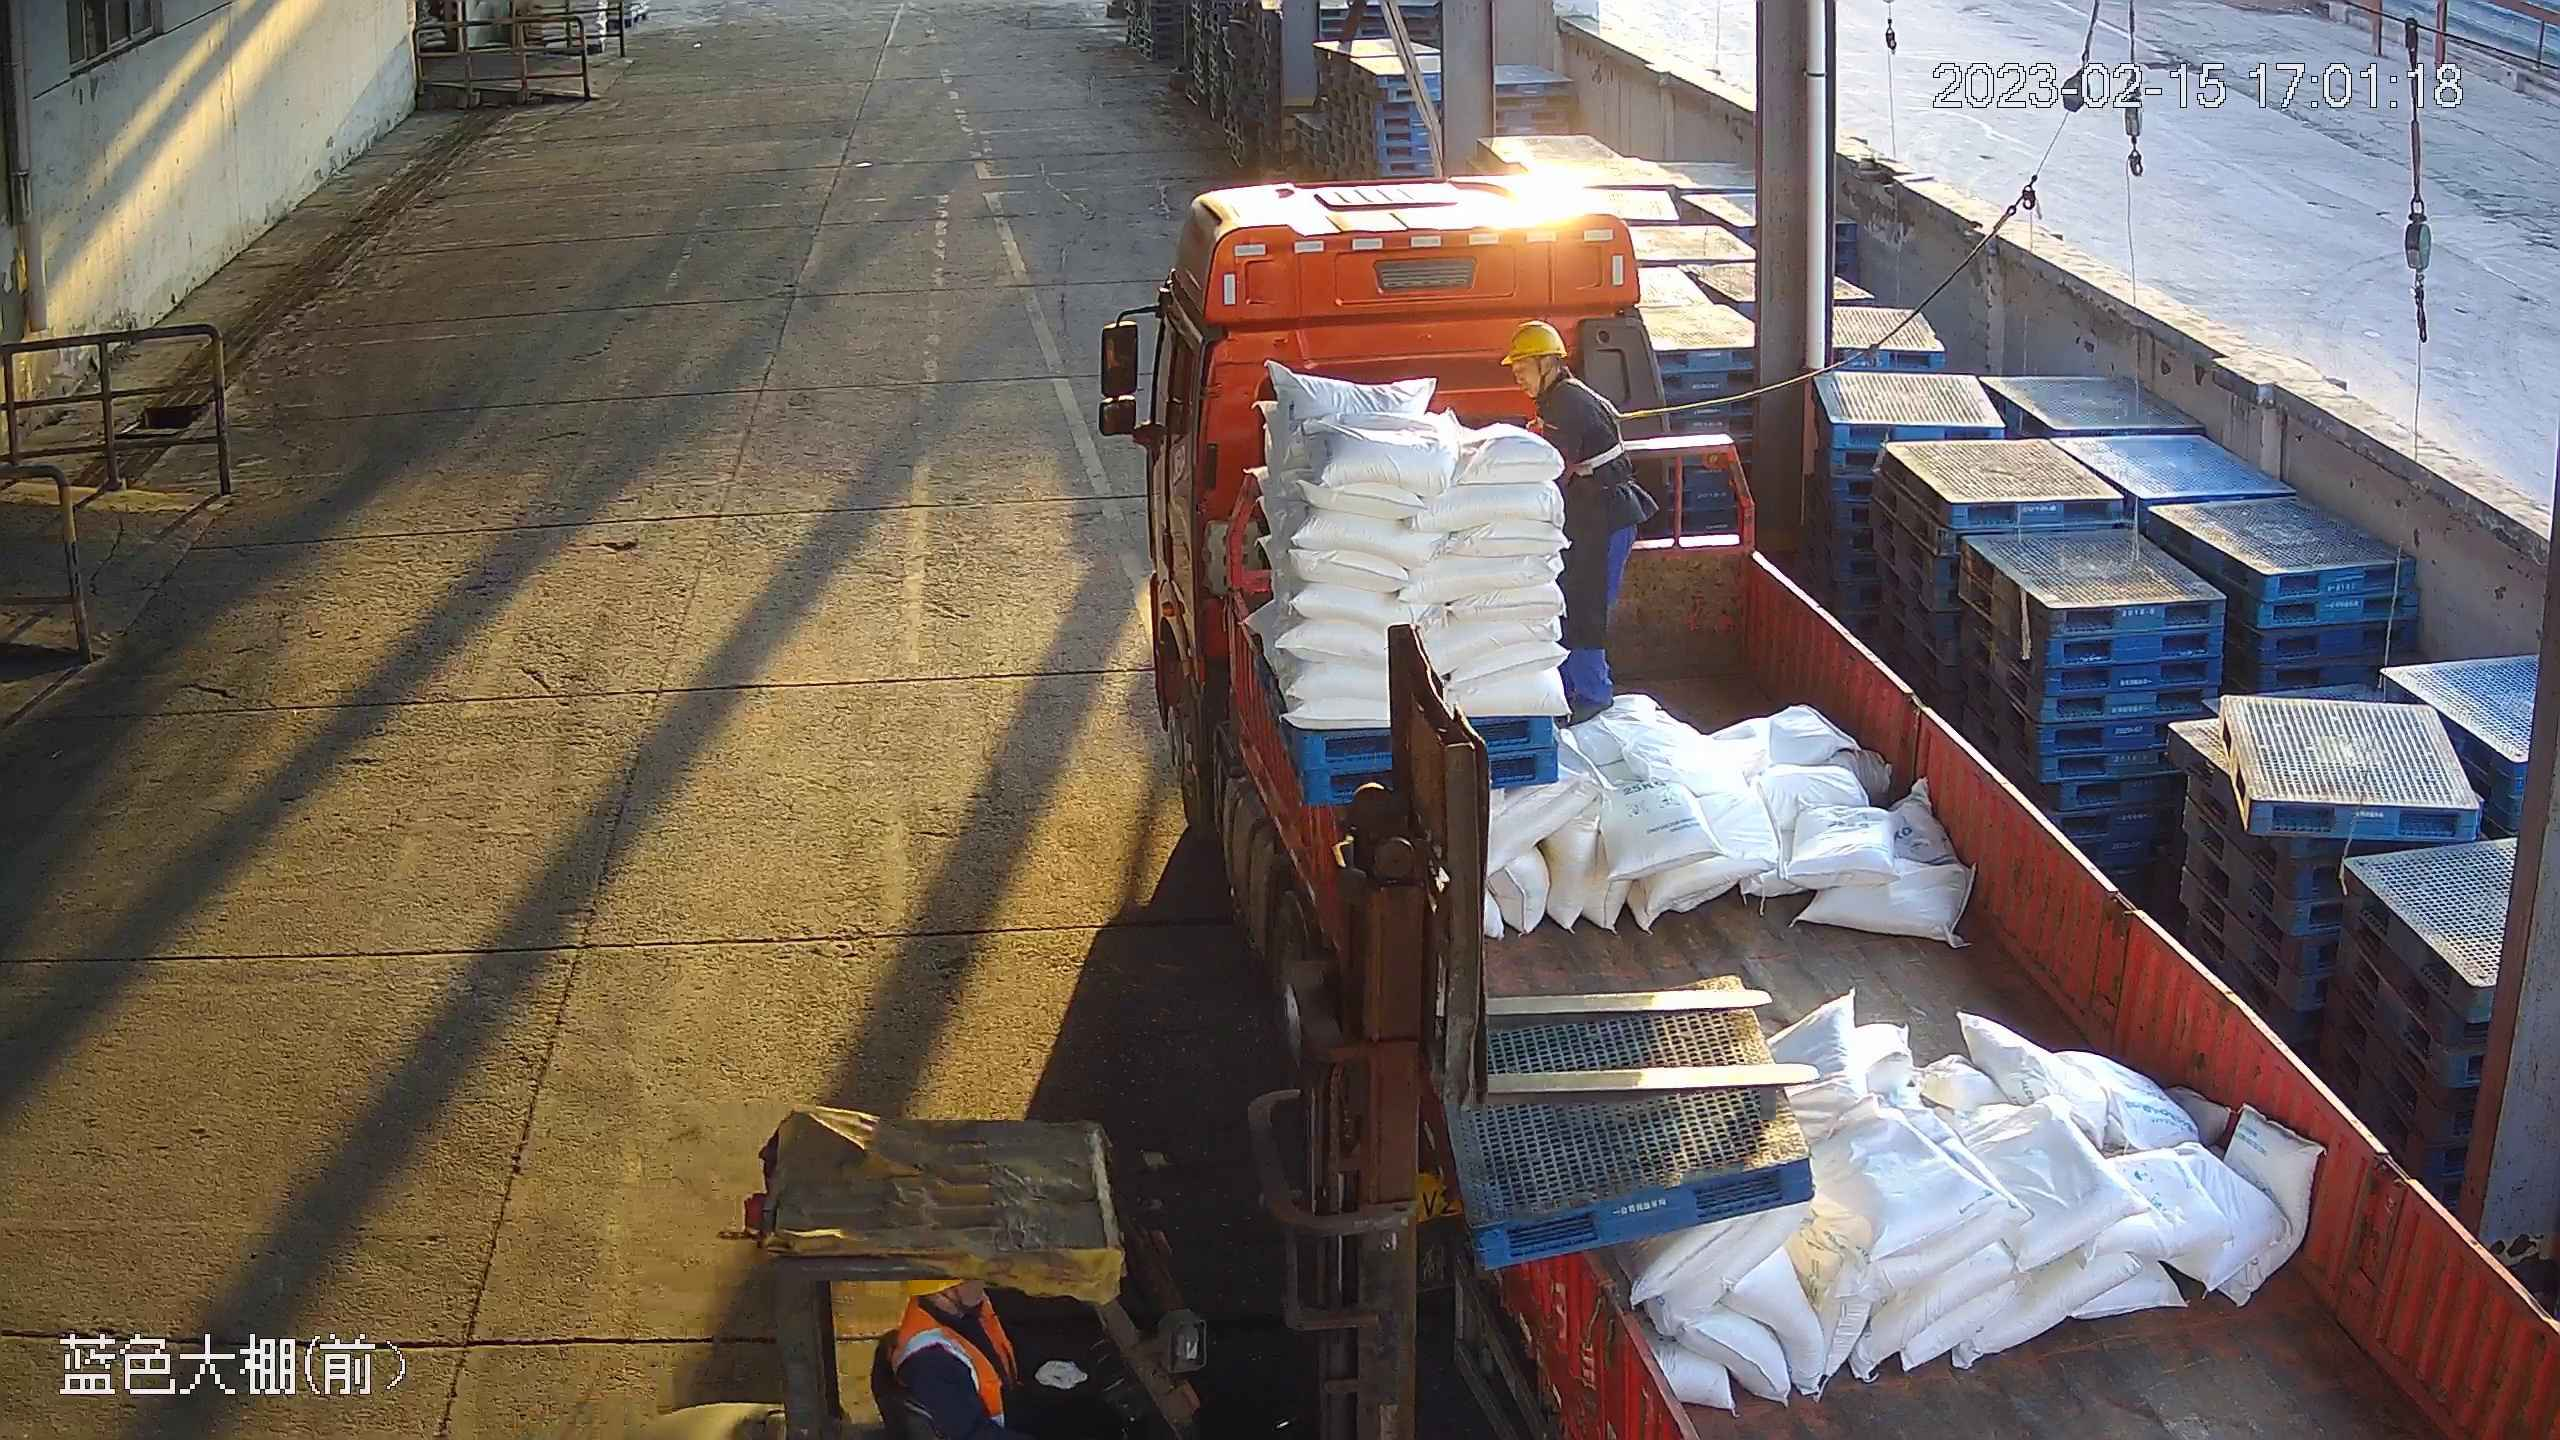head: (890, 1276, 1018, 1382), (1499, 319, 1619, 424)
helmet: (1498, 317, 1569, 367)
people: (1498, 317, 1660, 730)
truck: (1146, 172, 2560, 1440)
